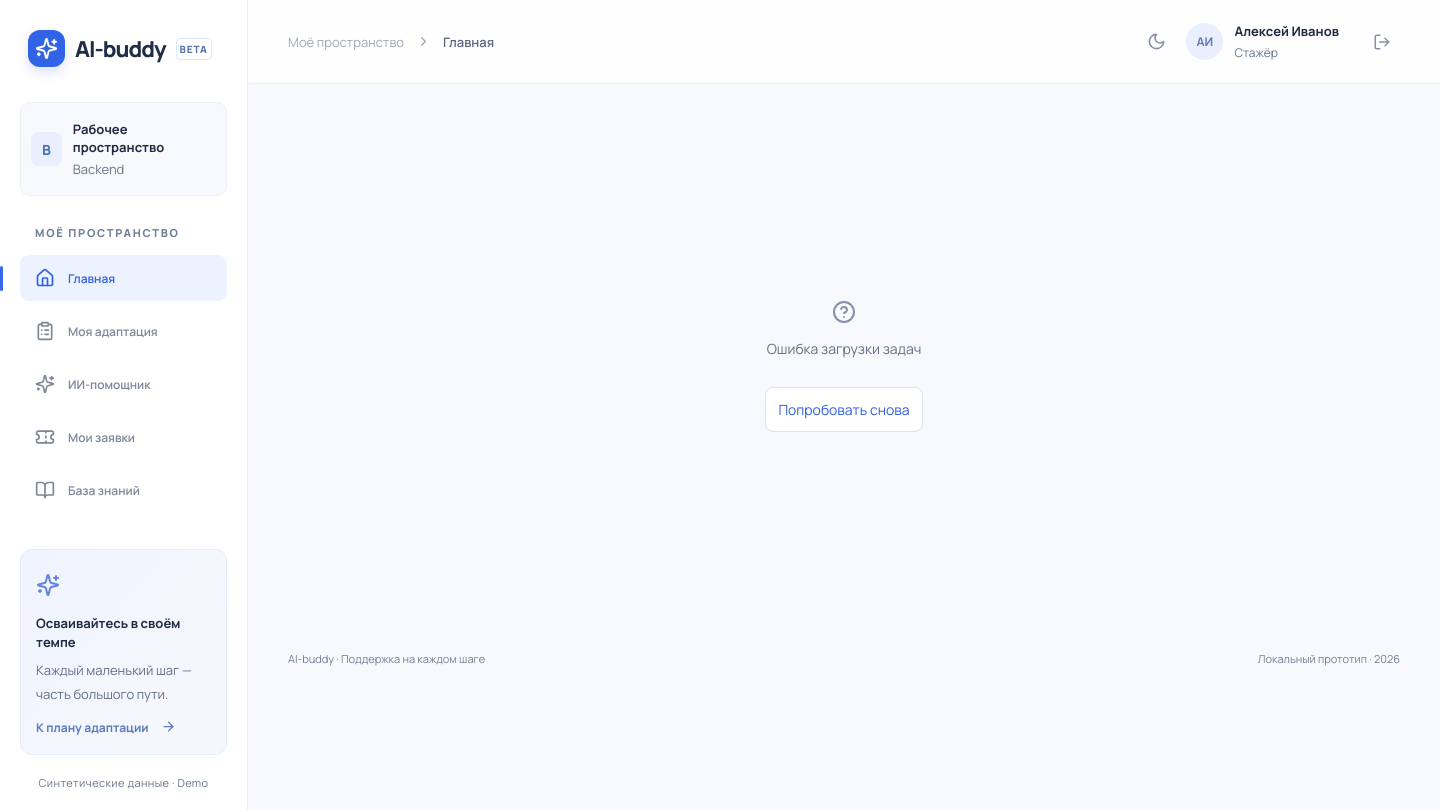
task failure and retry
Expected: the message shows "Ошибка загрузки задач", left=767, top=339, right=921, bottom=358
Click the button "Попробовать снова": coordinates (844, 410) left=765, top=387, right=923, bottom=432
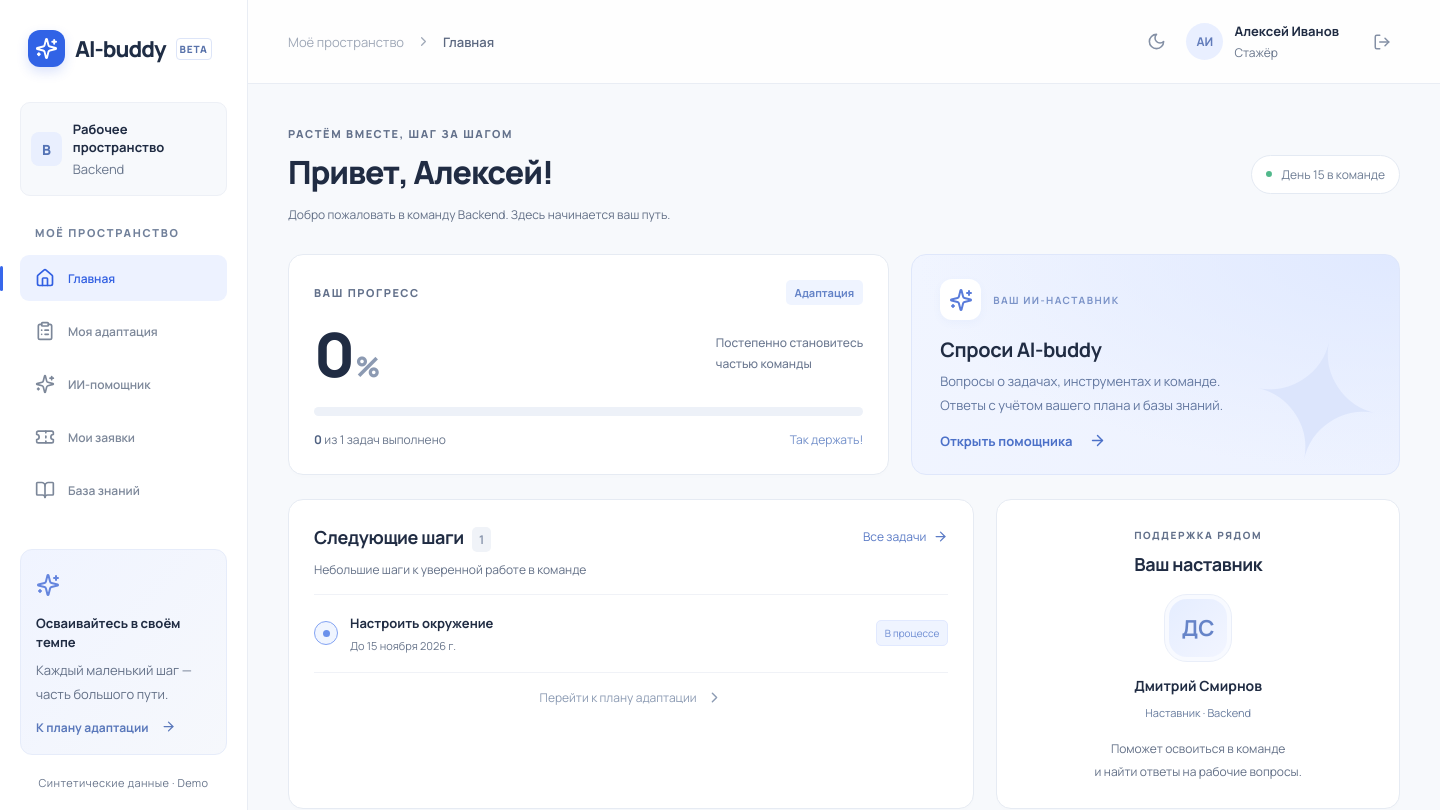
Now the heading "Дмитрий Смирнов" is shown, box left=1134, top=676, right=1262, bottom=695
